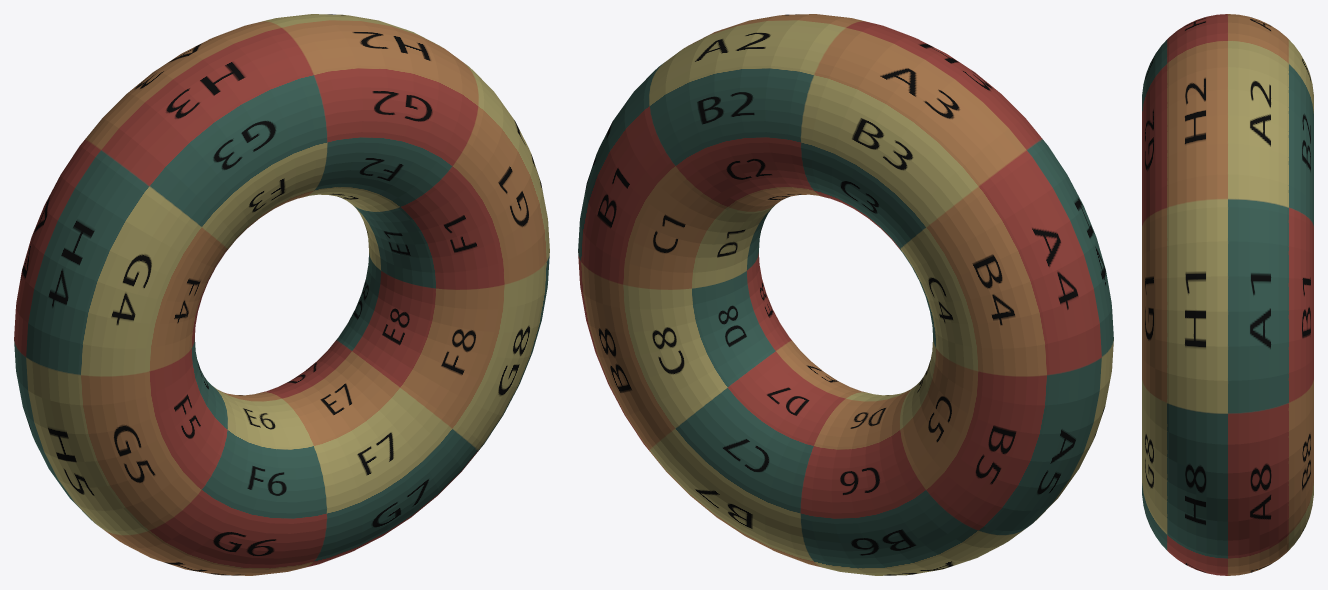
File: texture_torus_R19_r30.glb
3 views of the same model, side by side, from view 1: azimuth 30°, elevation 25°; view 2: azimuth 150°, elevation 25°; view 3: azimuth 270°, elevation 25° (orthographic). The views are drawn at different scales.
Parts seen in each view (by area): view 1: world; view 2: world; view 3: world.
Part boxes in pixels (bbox=[...]): world: bbox=[14, 14, 549, 575]; world: bbox=[578, 14, 1113, 575]; world: bbox=[1142, 14, 1313, 575].
Size of the model in its own units: 32.67 by 32.6 by 9.98.
Materials: 1 (1 with a texture image).
